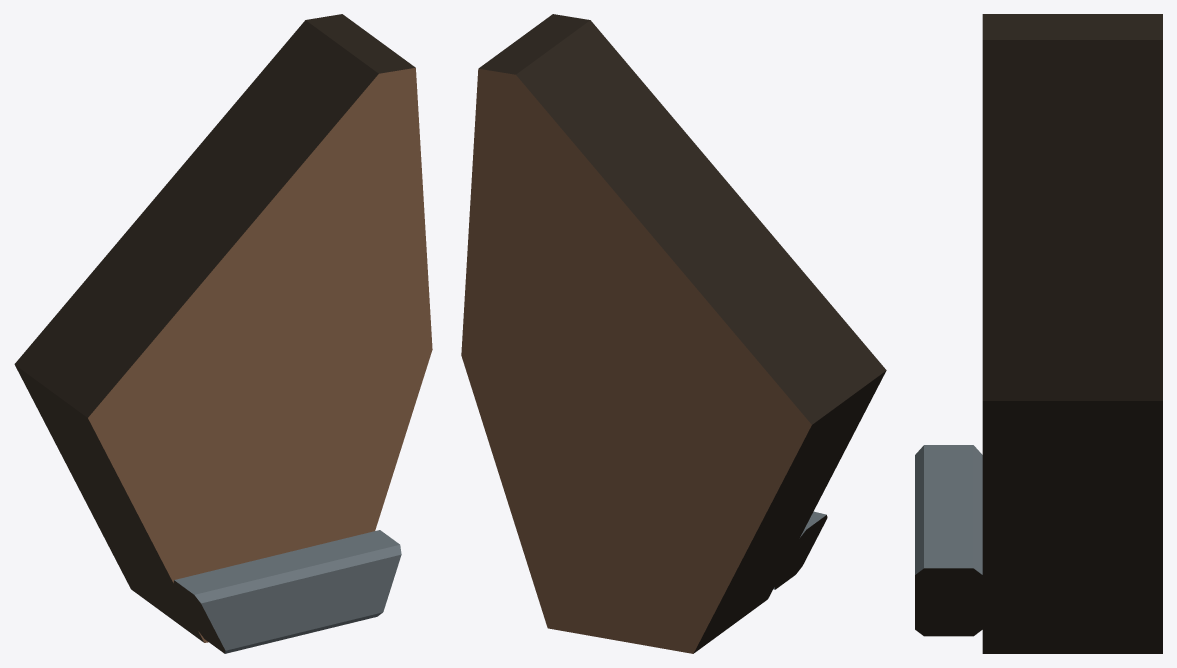
File: SM_DoorShard_01_35.fbx
The picture shows the model from 3 angles, left to right: view 1: azimuth 30°, elevation 25°; view 2: azimuth 150°, elevation 25°; view 3: azimuth 270°, elevation 25°; orthographic projection. The views are drawn at different scales.
Visible parts, largest first — view 1: SM_DoorShard_01_35; view 2: SM_DoorShard_01_35; view 3: SM_DoorShard_01_35.
Part boxes in pixels (box(x1,y1,x2,y2)): SM_DoorShard_01_35: box(14, 14, 432, 653); SM_DoorShard_01_35: box(461, 14, 886, 653); SM_DoorShard_01_35: box(915, 14, 1162, 653).
Size of the model in its own units: 43.36 by 22 by 64.5.
